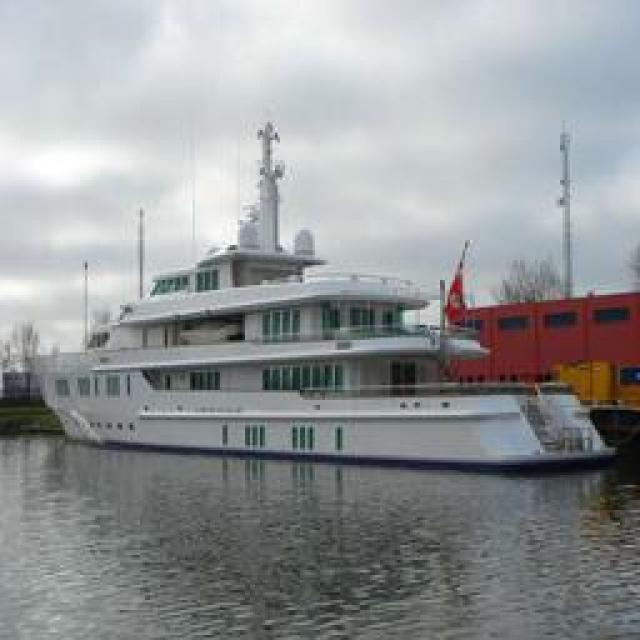CIV_Ship: (35, 202, 620, 466)
